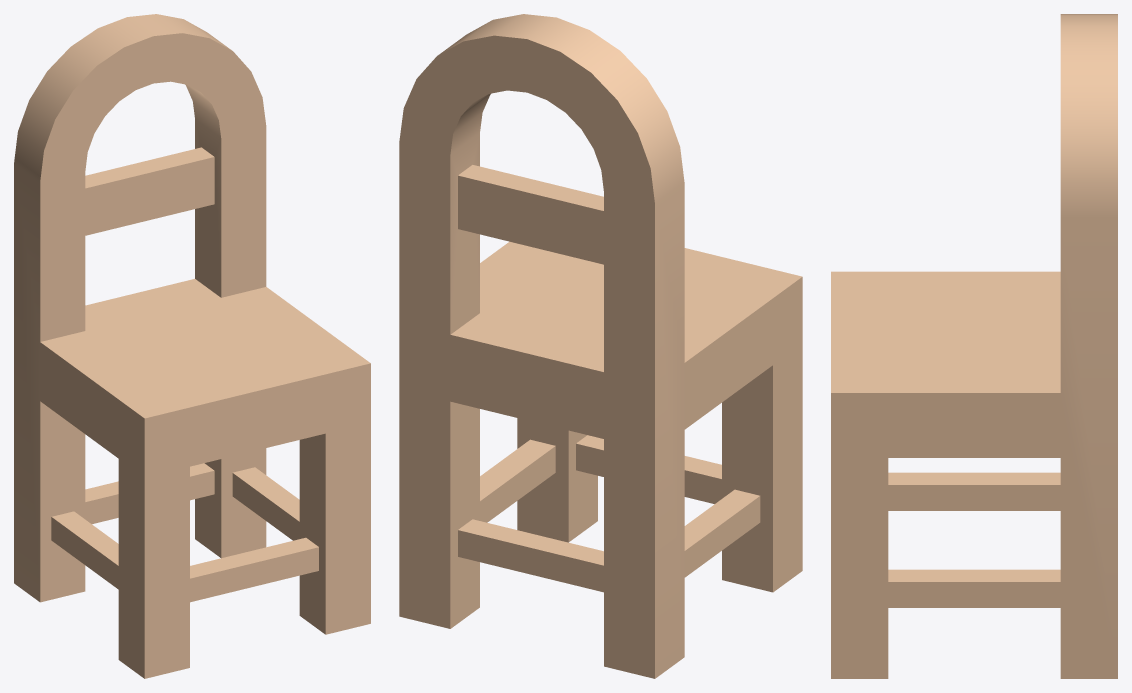
Rendered from chairRounded.gltf.
3 renders of one model, left to right at view 1: azimuth 30°, elevation 25°; view 2: azimuth 150°, elevation 25°; view 3: azimuth 270°, elevation 25°, orthographic. The views are drawn at different scales.
Parts seen in each view (by area): view 1: chairRounded(Clone); view 2: chairRounded(Clone); view 3: chairRounded(Clone).
Part boxes in pixels (x1=…): chairRounded(Clone): x1=14, y1=14, x2=370, y2=678; chairRounded(Clone): x1=399, y1=14, x2=802, y2=678; chairRounded(Clone): x1=831, y1=14, x2=1117, y2=678.
Size of the model in its own units: 0.2 by 0.455 by 0.2.
